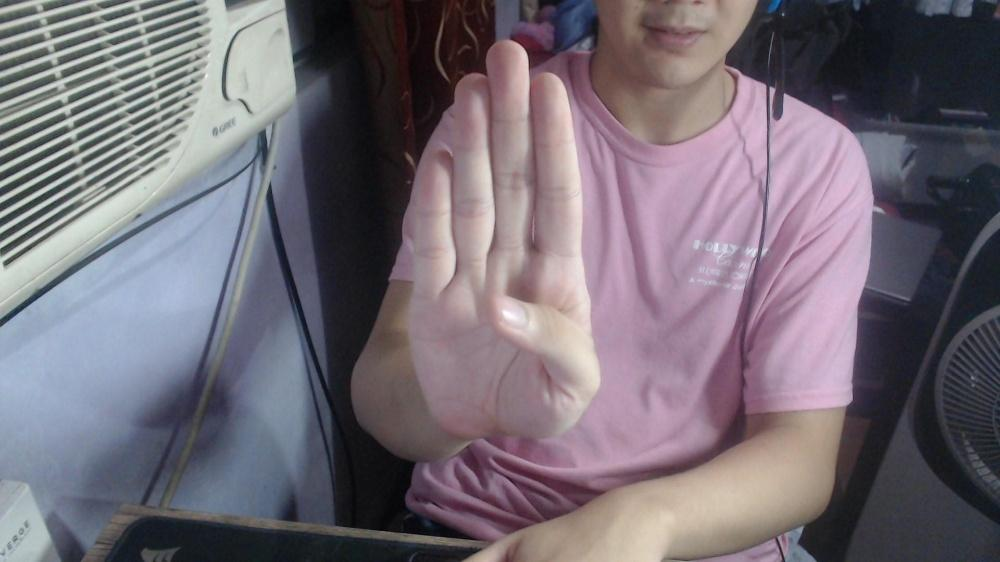b: (402, 36, 602, 448)
